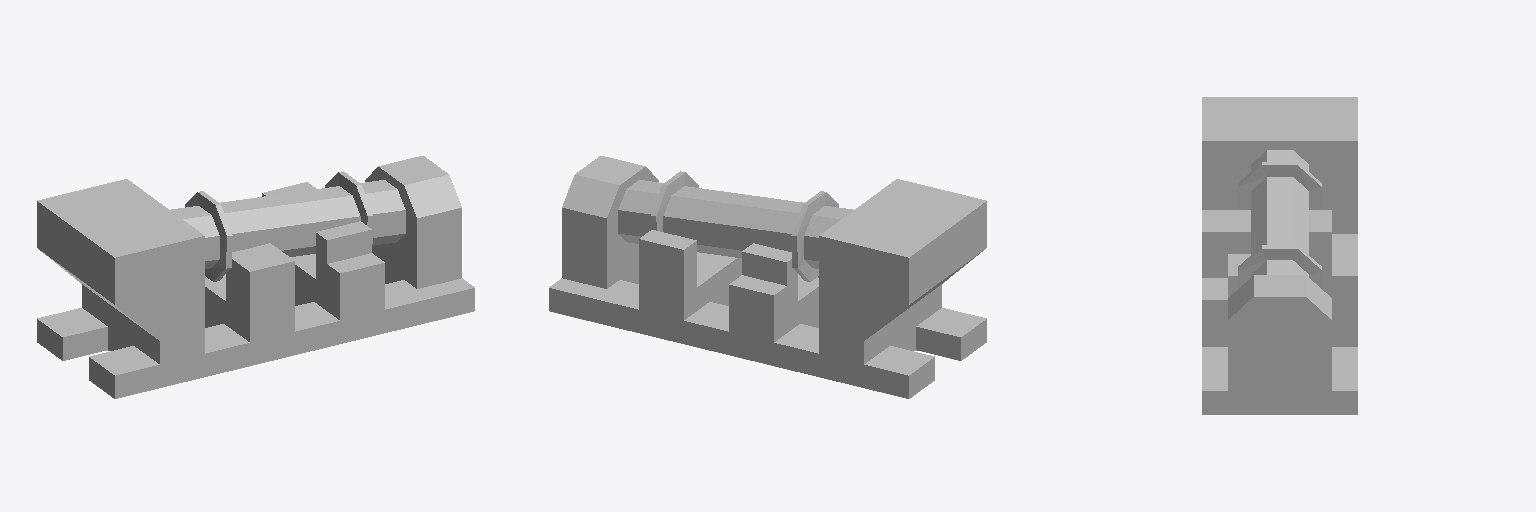
Rendered from rotarykiln_mirrored.obj.
3 views of the same model, side by side, from view 1: azimuth 30°, elevation 25°; view 2: azimuth 150°, elevation 25°; view 3: azimuth 270°, elevation 25° (orthographic).
Visible parts, largest first — view 1: Base_Cube.003, Tube_Cube.002; view 2: Base_Cube.003, Tube_Cube.002; view 3: Base_Cube.003, Tube_Cube.002.
Boxes of the visible parts, <box> form: Base_Cube.003: <box>37,156,474,398</box>; Tube_Cube.002: <box>170,171,405,281</box>; Base_Cube.003: <box>549,156,986,398</box>; Tube_Cube.002: <box>618,171,853,281</box>; Base_Cube.003: <box>1202,97,1357,414</box>; Tube_Cube.002: <box>1238,150,1321,288</box>.
Size of the model in its own units: 8 by 3 by 3.